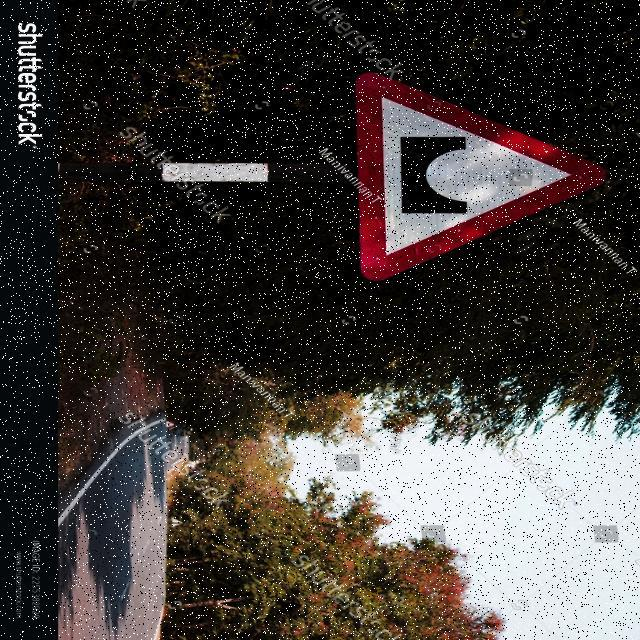Traffic sign: (349, 68, 609, 289)
